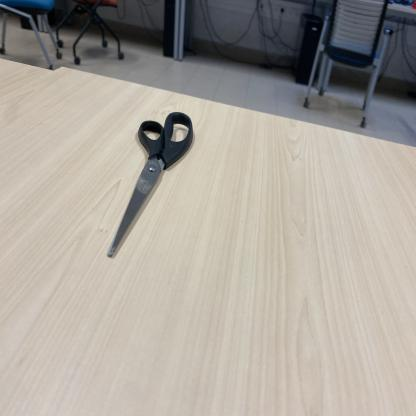scissors: (107, 112, 193, 260)
